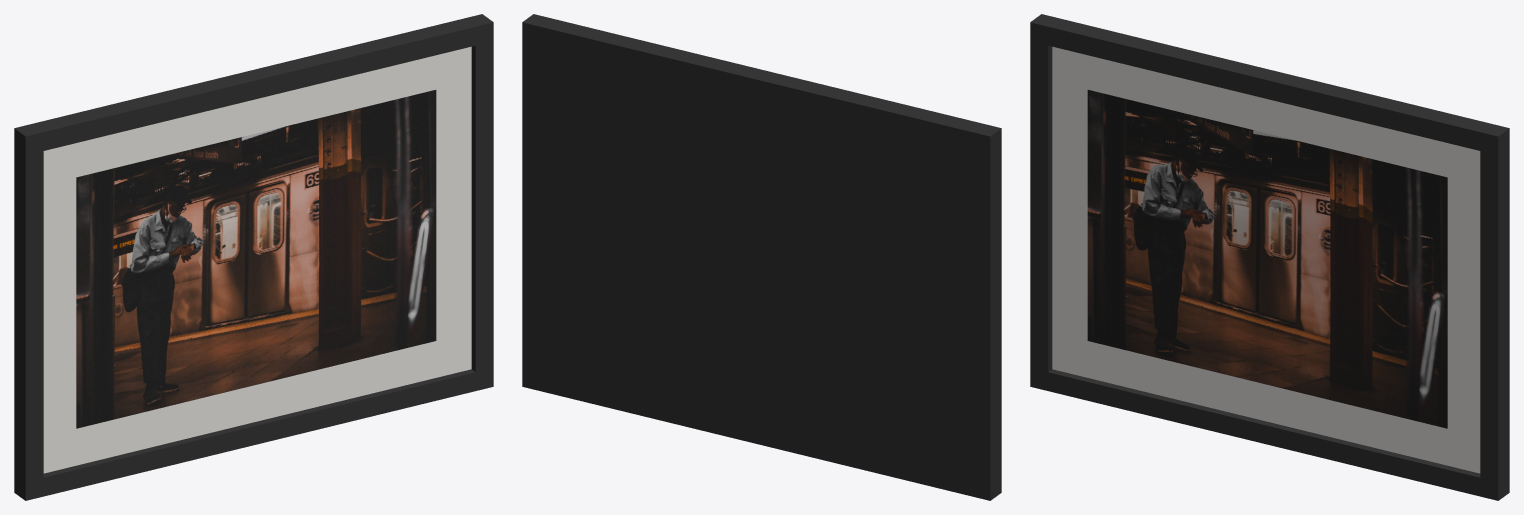
The model's file is vantan-40.gltf.
The picture shows the model from 3 angles, left to right: view 1: azimuth 30°, elevation 25°; view 2: azimuth 150°, elevation 25°; view 3: azimuth 330°, elevation 25°; orthographic projection.
Visible parts, largest first — view 1: tavla; view 2: tavla; view 3: tavla.
Part boxes in pixels (<box>): tavla: <box>14,14,493,500</box>; tavla: <box>522,14,1001,500</box>; tavla: <box>1030,14,1509,500</box>.
Bounding box in the file's own units: 0.52 × 0.3867 × 0.022.
3 materials, 1 textured.
